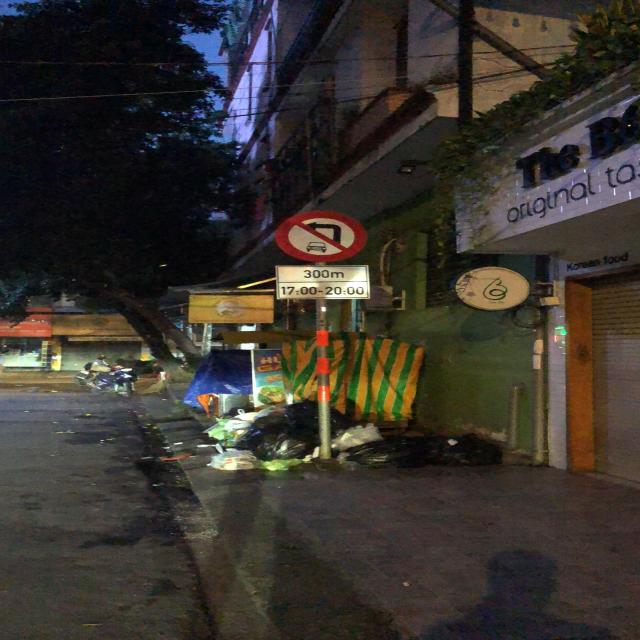Bien bao cam xe o to re trai: (272, 210, 377, 262)
